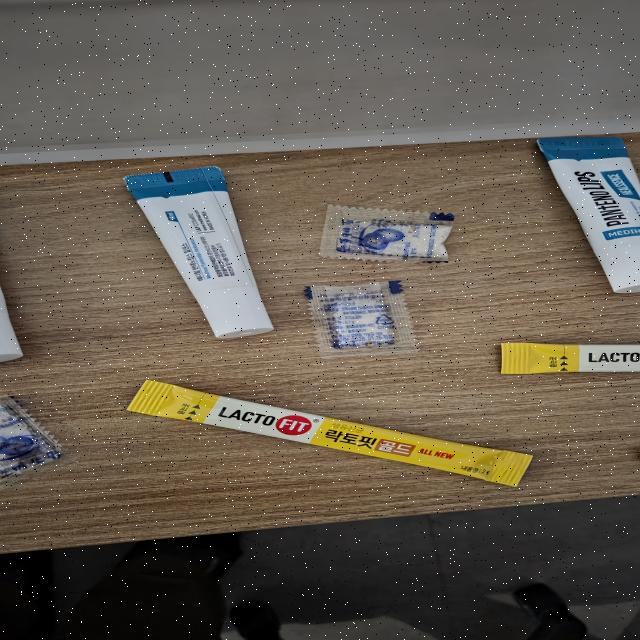lacto: (112, 372, 539, 494), (492, 333, 640, 390)
lip: (118, 159, 280, 353), (525, 124, 640, 295), (0, 268, 49, 369)
salt: (293, 276, 431, 367), (0, 388, 94, 502), (313, 202, 464, 271)
